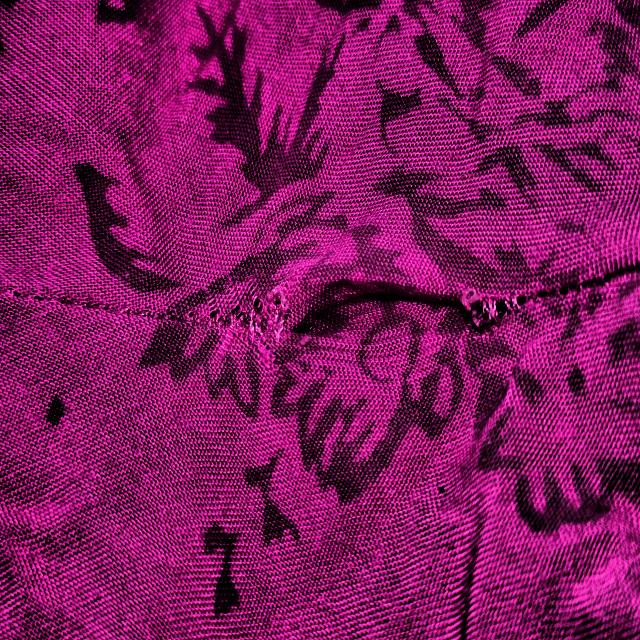seam: (219, 253, 529, 413)
